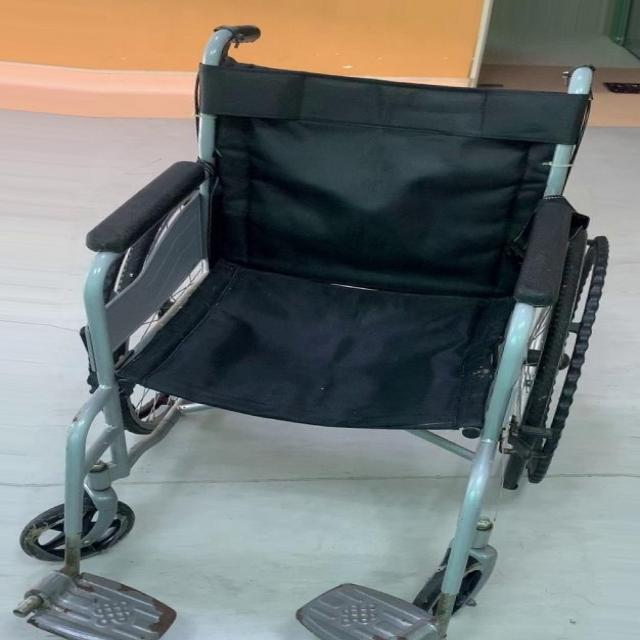wheelchair: (1, 13, 614, 640)
